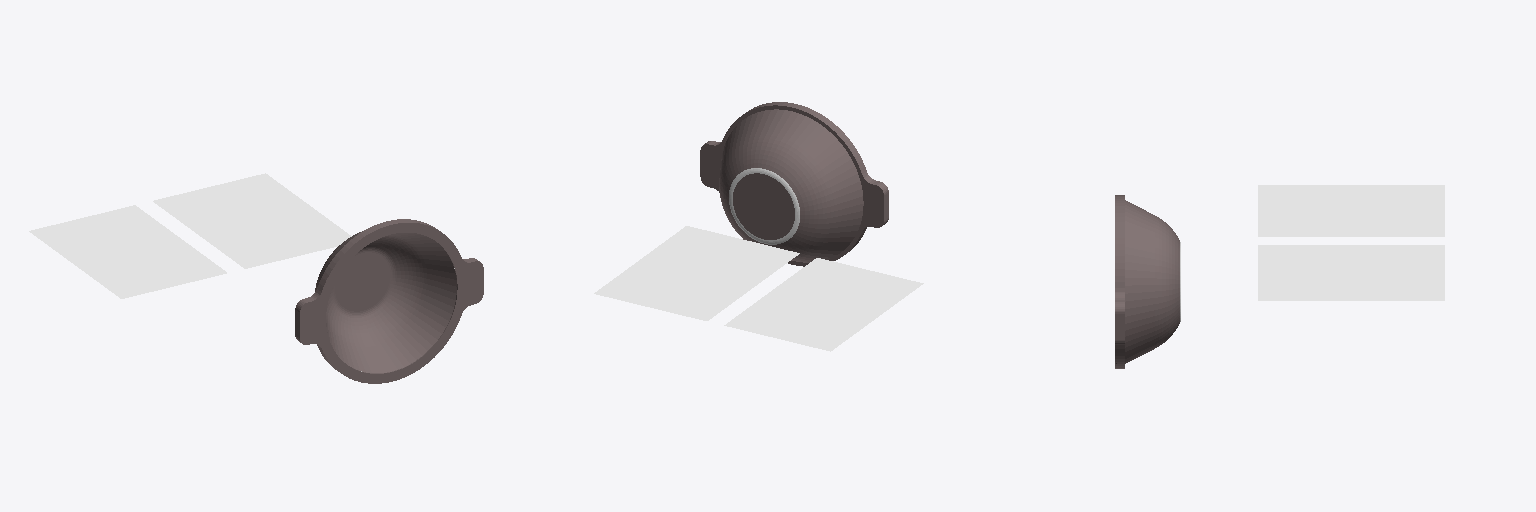
File: pot.obj
The picture shows the model from 3 angles: view 1: azimuth 30°, elevation 25°; view 2: azimuth 150°, elevation 25°; view 3: azimuth 270°, elevation 25°; orthographic projection.
Visible parts, largest first — view 1: obj11, obj12, obj1, obj5, obj9, obj2, obj3; view 2: obj11, obj12, obj8, obj6, obj1, obj4, obj7; view 3: obj11, obj12, obj6, obj8, obj1.
Part boxes in pixels (left/top/right/bottom): obj11: left=153, top=173, right=351, bottom=268; obj12: left=29, top=205, right=226, bottom=298; obj1: left=295, top=219, right=483, bottom=383; obj5: left=326, top=233, right=456, bottom=372; obj9: left=326, top=236, right=426, bottom=346; obj2: left=335, top=252, right=389, bottom=311; obj3: left=331, top=247, right=396, bottom=317; obj11: left=594, top=226, right=799, bottom=320; obj12: left=724, top=258, right=923, bottom=351; obj8: left=719, top=135, right=834, bottom=258; obj6: left=720, top=102, right=865, bottom=262; obj1: left=700, top=102, right=888, bottom=266; obj4: left=733, top=173, right=794, bottom=239; obj7: left=729, top=168, right=799, bottom=244; obj11: left=1258, top=245, right=1444, bottom=300; obj12: left=1258, top=185, right=1444, bottom=236; obj6: left=1116, top=200, right=1154, bottom=363; obj8: left=1155, top=216, right=1179, bottom=347; obj1: left=1115, top=195, right=1124, bottom=368.
Size of the model in its own units: 142 by 73.64 by 140.